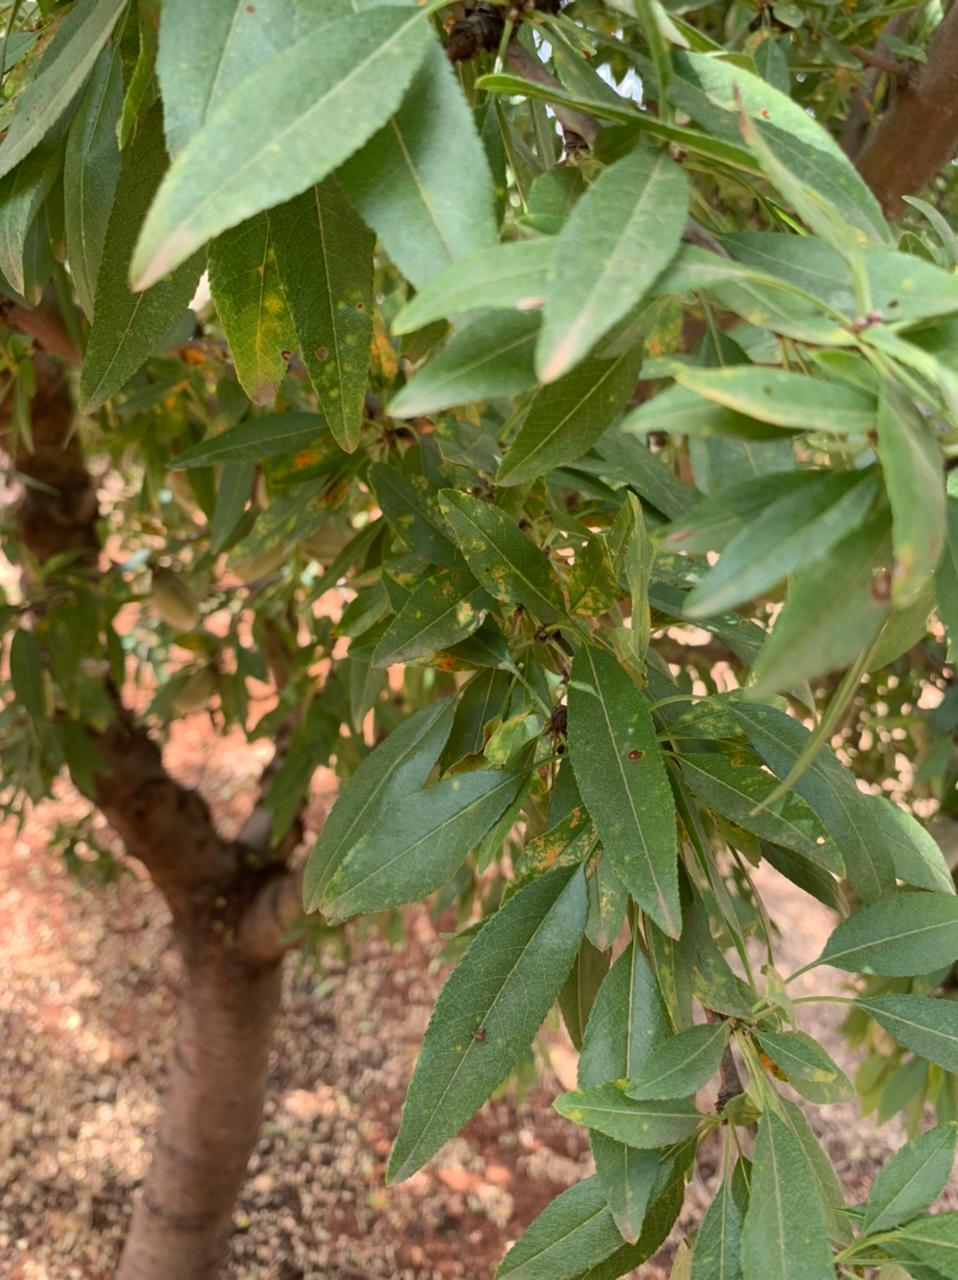polystigma: (325, 345, 463, 429), (300, 414, 366, 548)
rouille: (468, 1, 627, 221), (731, 698, 828, 960)
